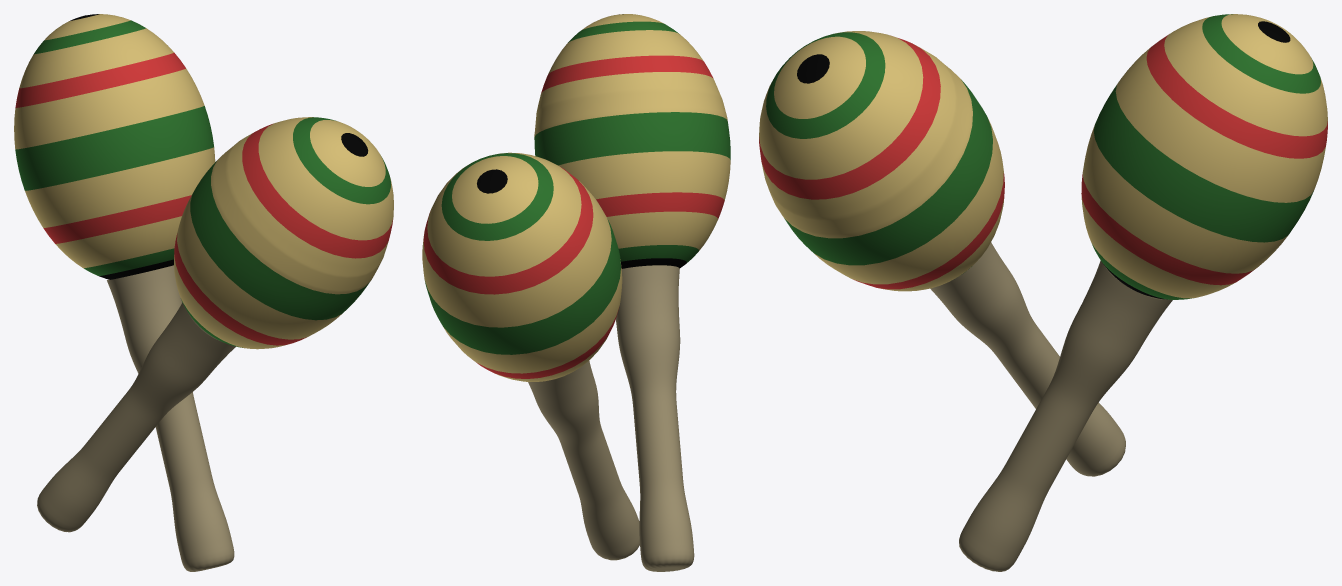
File: MaracasGeo.fbx
The picture shows the model from 3 angles, left to right: view 1: azimuth 30°, elevation 25°; view 2: azimuth 150°, elevation 25°; view 3: azimuth 270°, elevation 25°; orthographic projection. The views are drawn at different scales.
Parts seen in each view (by area): view 1: maracasgeo; view 2: maracasgeo; view 3: maracasgeo.
Boxes of the visible parts, x1=… form: maracasgeo: x1=14, y1=14, x2=393, y2=571; maracasgeo: x1=422, y1=14, x2=730, y2=571; maracasgeo: x1=759, y1=14, x2=1327, y2=571.
Size of the model in its own units: 59.21 by 113 by 105.
